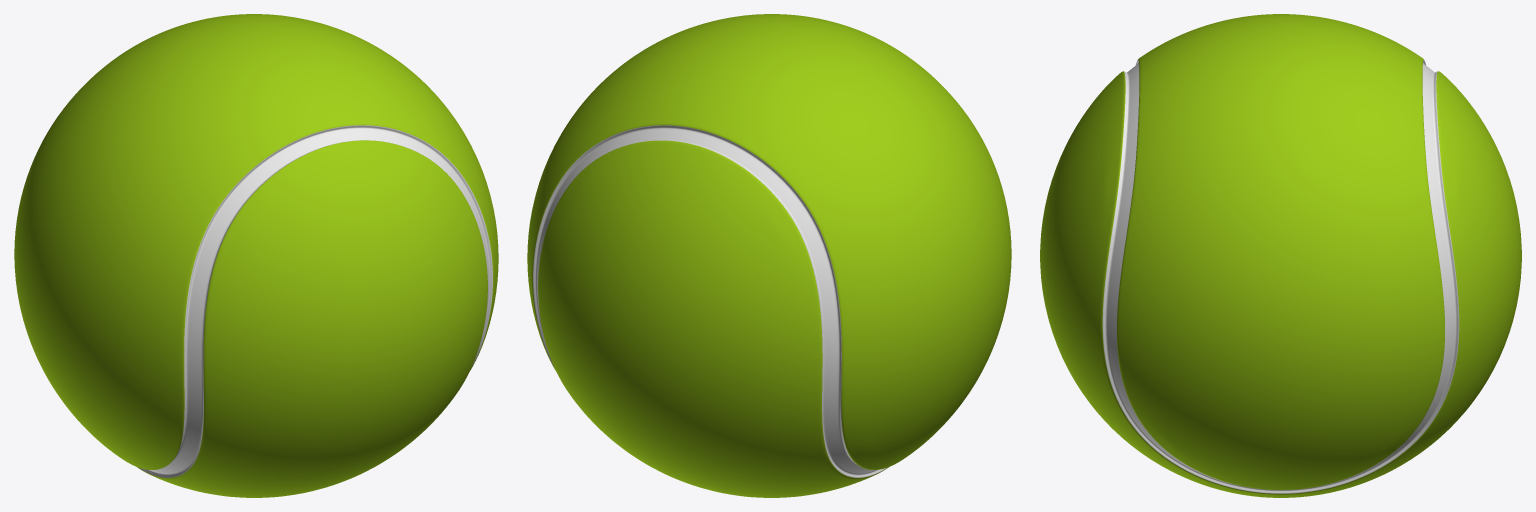
File: Tennis Ball.fbx
3 views of the same model, side by side, from view 1: azimuth 30°, elevation 25°; view 2: azimuth 150°, elevation 25°; view 3: azimuth 270°, elevation 25° (orthographic).
Visible parts, largest first — view 1: pPlatonic1; view 2: pPlatonic1; view 3: pPlatonic1.
Boxes of the visible parts, x1=… form: pPlatonic1: x1=14, y1=14, x2=498, y2=497; pPlatonic1: x1=527, y1=14, x2=1011, y2=497; pPlatonic1: x1=1040, y1=14, x2=1521, y2=497.
Size of the model in its own units: 2.43 by 2.44 by 2.43.
